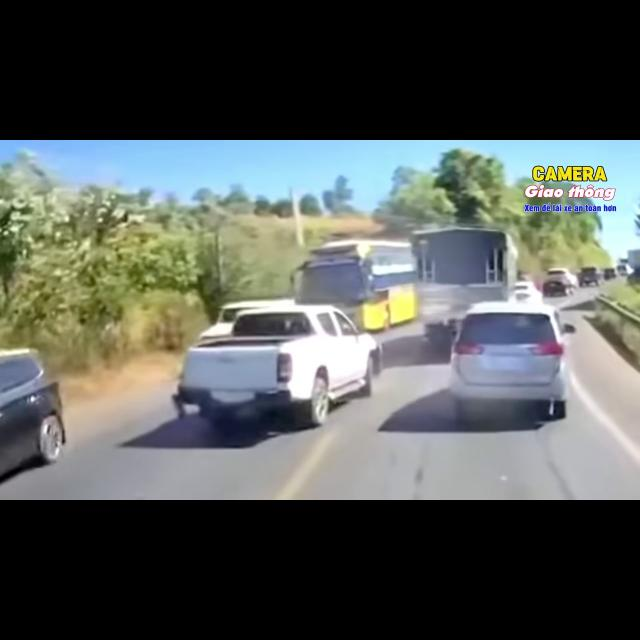bus: (292, 240, 418, 331)
car: (173, 305, 381, 430), (450, 302, 574, 420), (0, 349, 65, 473), (199, 299, 294, 339), (546, 268, 578, 291), (509, 281, 543, 302), (543, 278, 572, 296), (578, 266, 601, 286), (627, 266, 639, 285), (616, 264, 632, 276), (603, 268, 617, 280)
truck: (411, 226, 517, 344)
